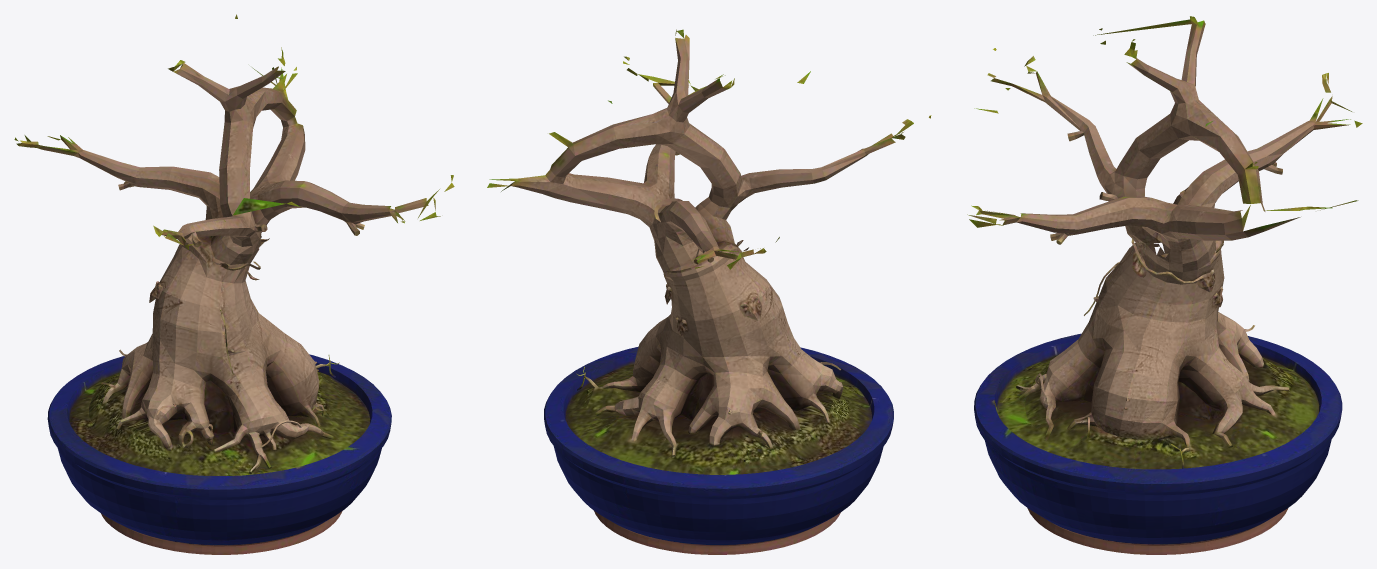
The model's file is wood.glb.
The picture shows the model from 3 angles, left to right: view 1: azimuth 30°, elevation 25°; view 2: azimuth 150°, elevation 25°; view 3: azimuth 270°, elevation 25°; orthographic projection. The views are drawn at different scales.
Parts seen in each view (by area): view 1: geometry_0; view 2: geometry_0; view 3: geometry_0.
Boxes of the visible parts, x1,y1,x2,y2 form: geometry_0: (14,14,454,554); geometry_0: (487,29,931,554); geometry_0: (967,16,1362,554).
Bounding box in the file's own units: 0.2279 × 0.3146 × 0.2362.
Materials: 1 (1 with a texture image).
